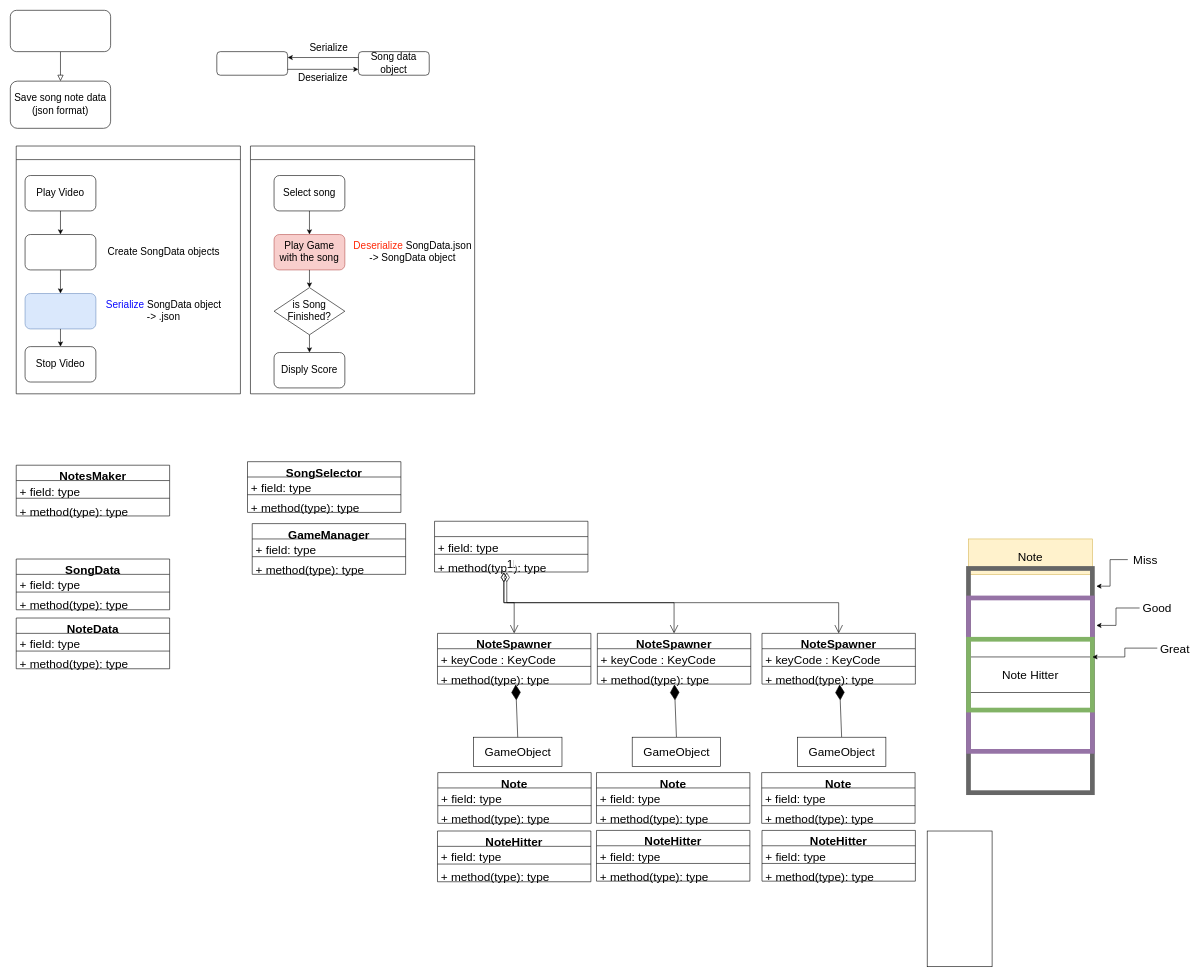
This 1203x977 diagram has some shape labels left out. Here are the shapes that lost their labels. From the top down, the box of each, then its label:
(10, 10, 111, 52): Create song note data
(216, 51, 288, 75): Song data file (.json)
(24, 234, 96, 270): Record NoteData
(16, 145, 240, 394): Edit mode
(250, 145, 475, 394): Play mode
(24, 293, 96, 329): Save SongData
(434, 521, 588, 572): NoteManager
(927, 830, 992, 967): «enum» HitType Bad, Miss, Good, Great, Cool
